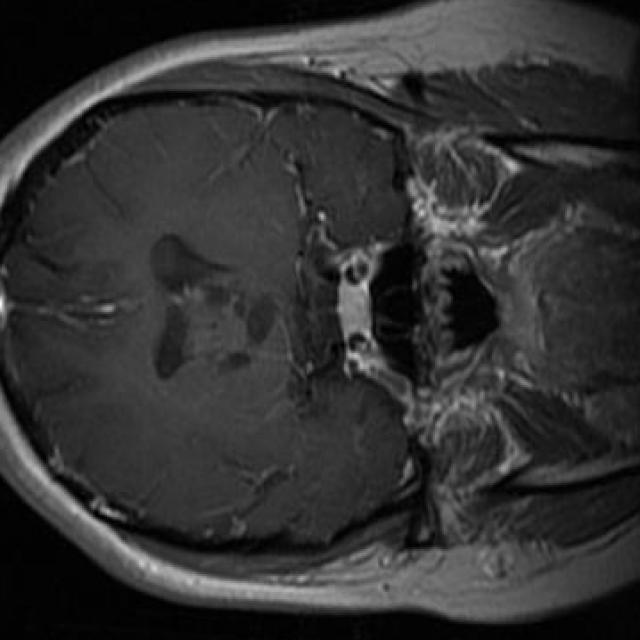glioma: (150, 235, 278, 380)
